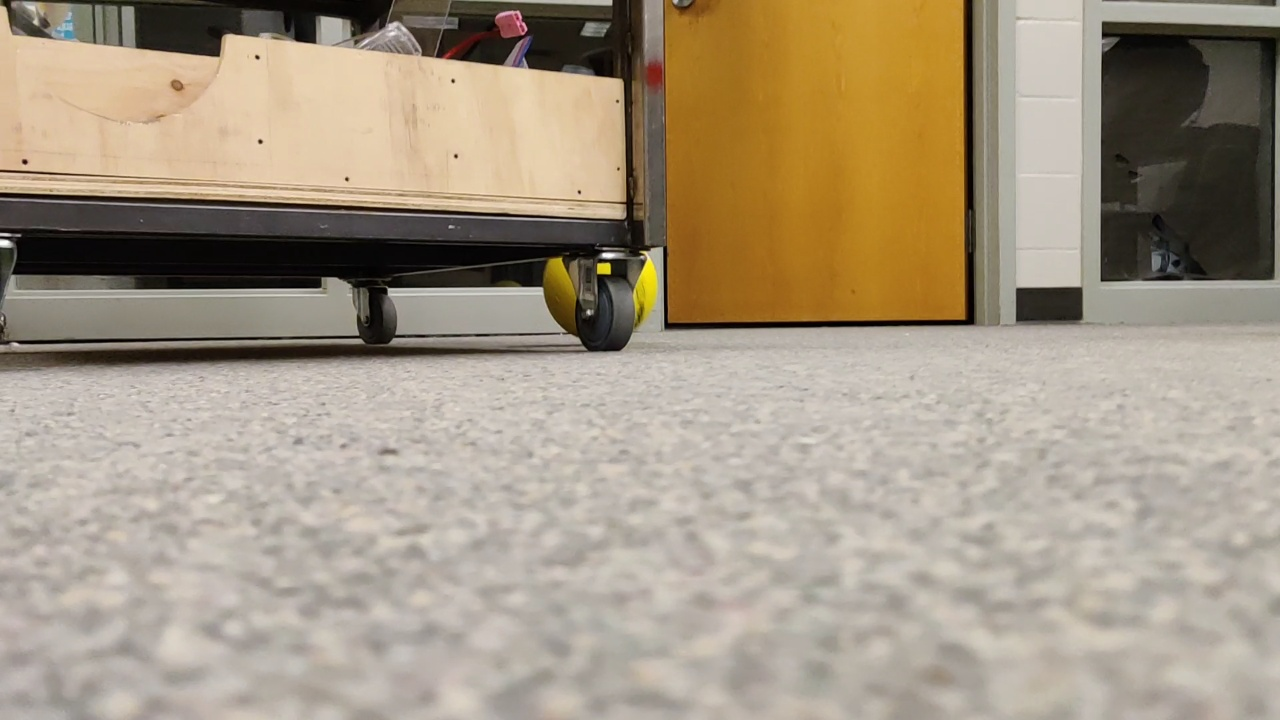Ball: (535, 258, 582, 334)
